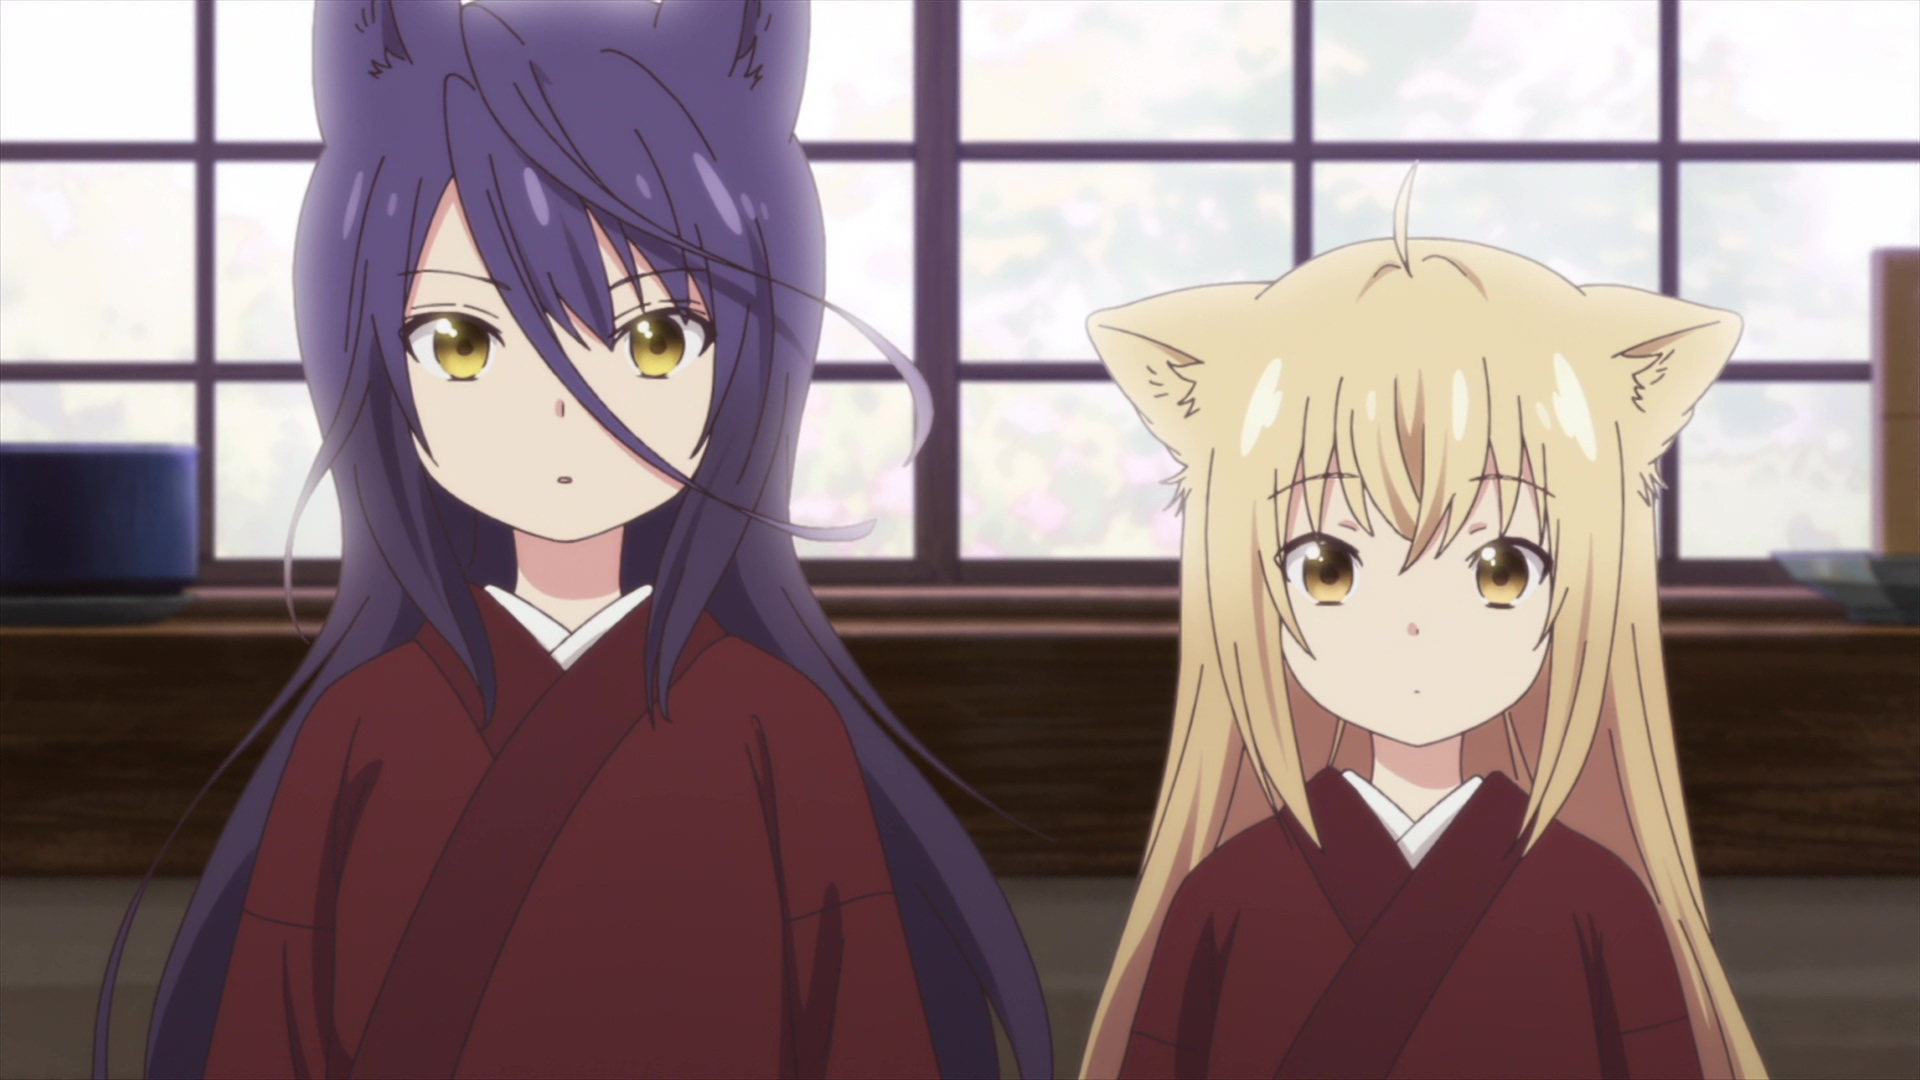柚: (1077, 161, 1768, 1080)
皋: (94, 1, 1055, 1080)
